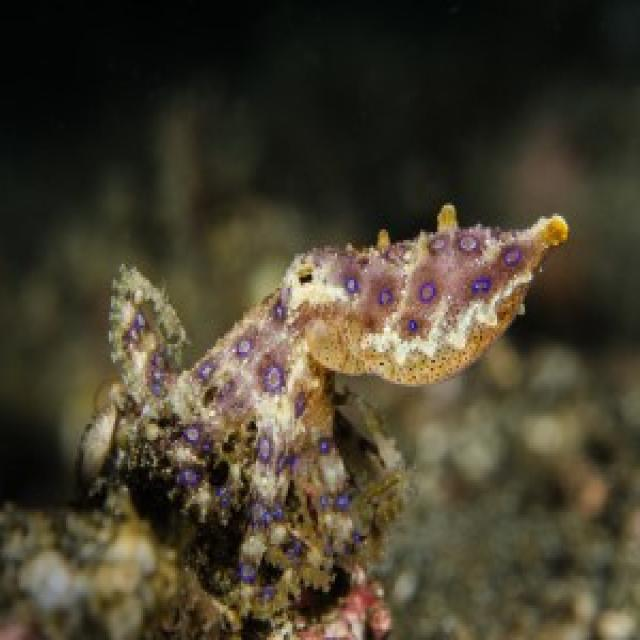Octo: (92, 201, 570, 640)
